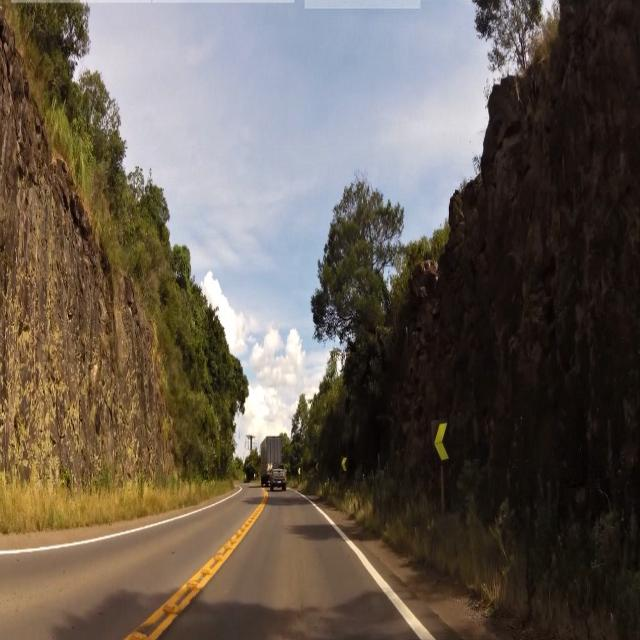Del: (431, 415, 452, 460), (342, 457, 348, 473)
